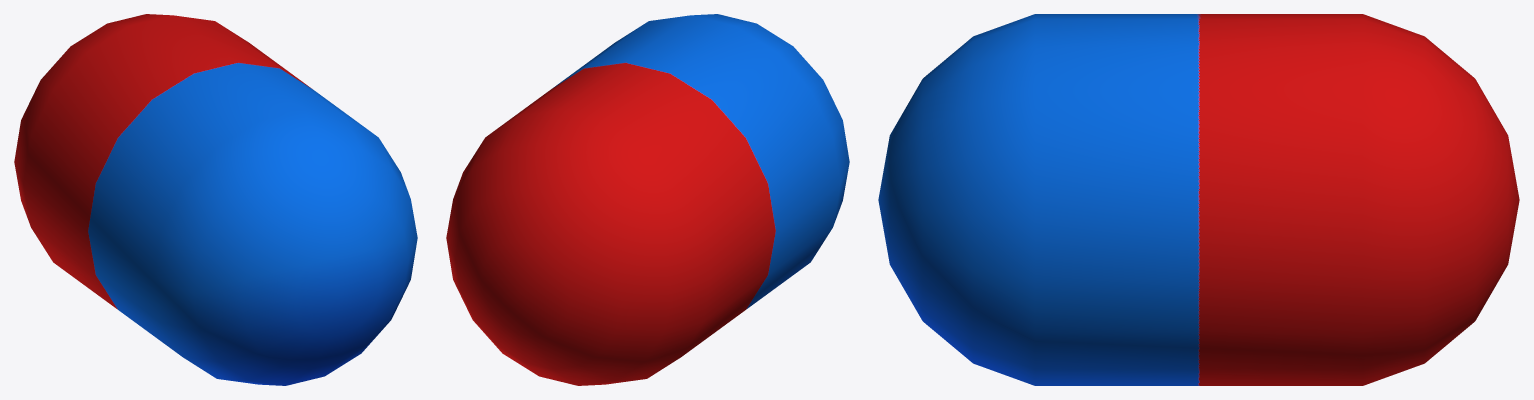
3 views of the same model, side by side, from view 1: azimuth 30°, elevation 25°; view 2: azimuth 150°, elevation 25°; view 3: azimuth 270°, elevation 25° (orthographic). The views are drawn at different scales.
Parts seen in each view (by area): view 1: Capsule; view 2: Capsule; view 3: Capsule.
Part boxes in pixels (left/top/right/bottom): Capsule: left=14, top=14, right=417, bottom=385; Capsule: left=446, top=14, right=849, bottom=385; Capsule: left=878, top=14, right=1519, bottom=385.
Bounding box in the file's own units: 19.13 × 18.84 × 32.85.
1 material, 1 textured.
